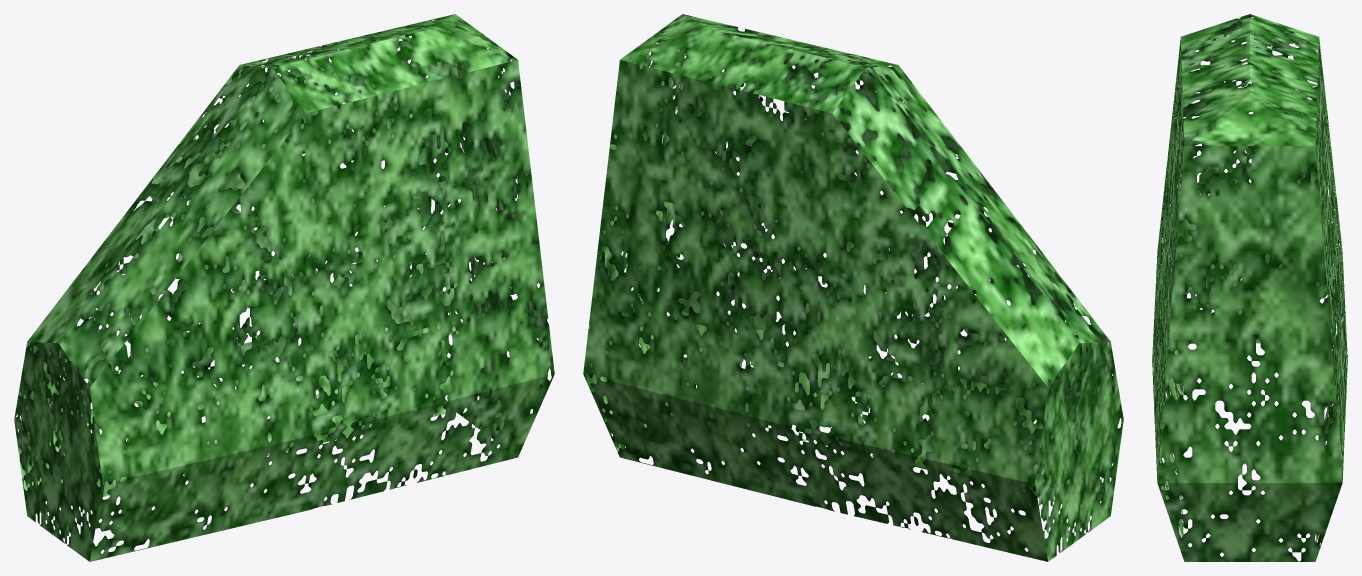
The model's file is bush_connector_high_end_spring.fbx.
3 views of the same model, side by side, from view 1: azimuth 30°, elevation 25°; view 2: azimuth 150°, elevation 25°; view 3: azimuth 270°, elevation 25° (orthographic). The views are drawn at different scales.
Visible parts, largest first — view 1: bush_connector_high_end_spring; view 2: bush_connector_high_end_spring; view 3: bush_connector_high_end_spring.
Part boxes in pixels (x1,y1,x2,y2): bush_connector_high_end_spring: [14, 14, 554, 561]; bush_connector_high_end_spring: [583, 14, 1123, 561]; bush_connector_high_end_spring: [1152, 14, 1347, 561].
Size of the model in its own units: 212 by 188 by 75.92.
Materials: 1 (1 with a texture image).
